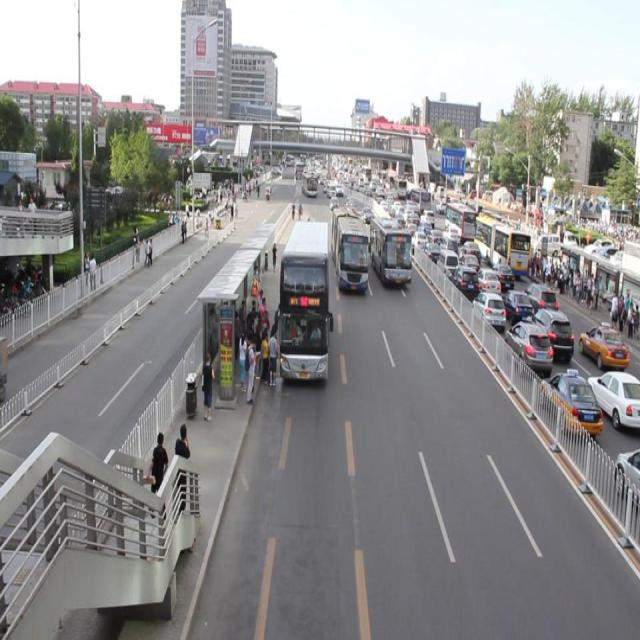car: (361, 204, 373, 224), (346, 198, 356, 214), (330, 195, 338, 210)
van: (280, 222, 328, 382), (332, 209, 366, 292), (370, 218, 410, 286)
